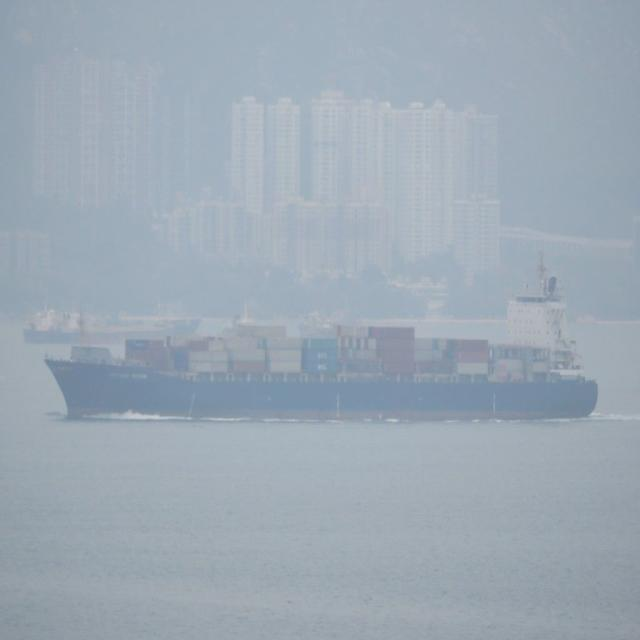cargoship: (51, 282, 599, 422), (22, 292, 200, 345)
